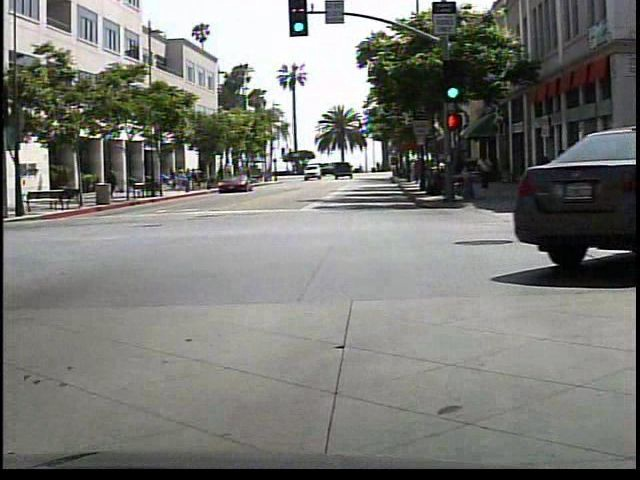person: (473, 150, 495, 194), (104, 162, 122, 201)
